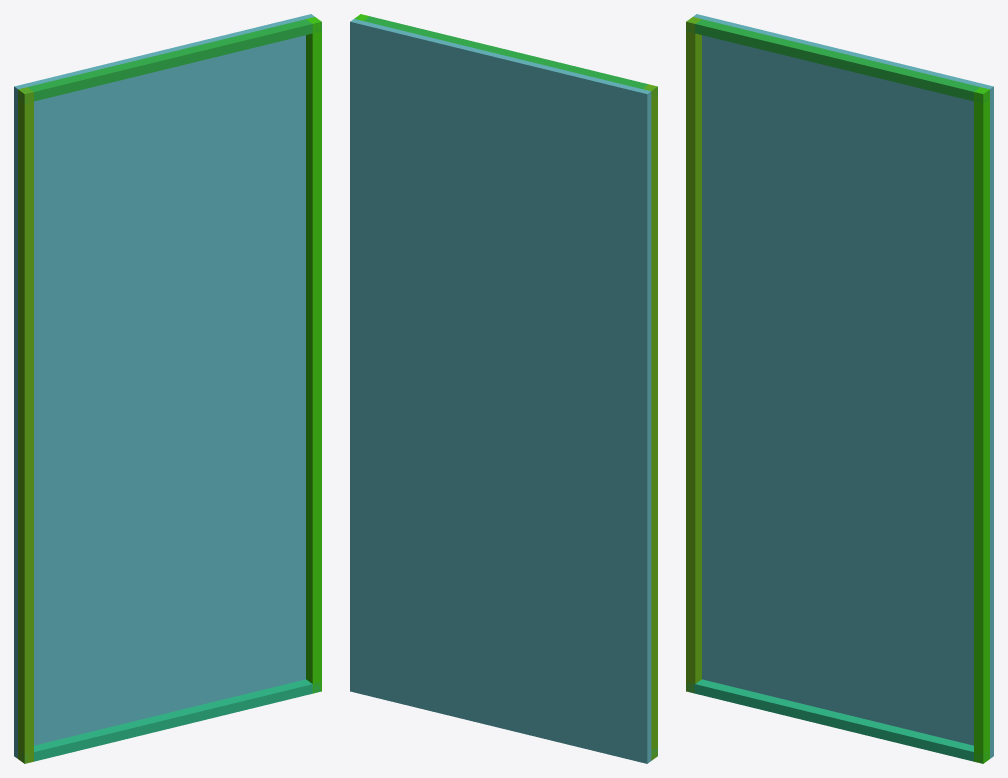
Rendered from tray_1_disjoint.obj.
The picture shows the model from 3 angles, left to right: view 1: azimuth 30°, elevation 25°; view 2: azimuth 150°, elevation 25°; view 3: azimuth 330°, elevation 25°; orthographic projection.
Parts seen in each view (by area): view 1: cube_1, cube_3, cube_2, cube_4, cube_5; view 2: cube_1, cube_3, cube_4; view 3: cube_1, cube_2, cube_3, cube_4, cube_5.
Boxes of the visible parts, x1,y1,x2,y2 form: cube_1: (14,14,314,758); cube_3: (18,87,33,763); cube_2: (306,17,321,693); cube_4: (18,17,321,103); cube_5: (18,679,321,763); cube_1: (350,19,651,763); cube_3: (643,84,657,760); cube_4: (354,14,657,99); cube_1: (693,14,993,758); cube_2: (974,87,989,763); cube_3: (686,17,701,692); cube_4: (686,19,989,103); cube_5: (686,679,989,763).
Bounding box in the file's own units: 0.26 × 0.56 × 0.016.
